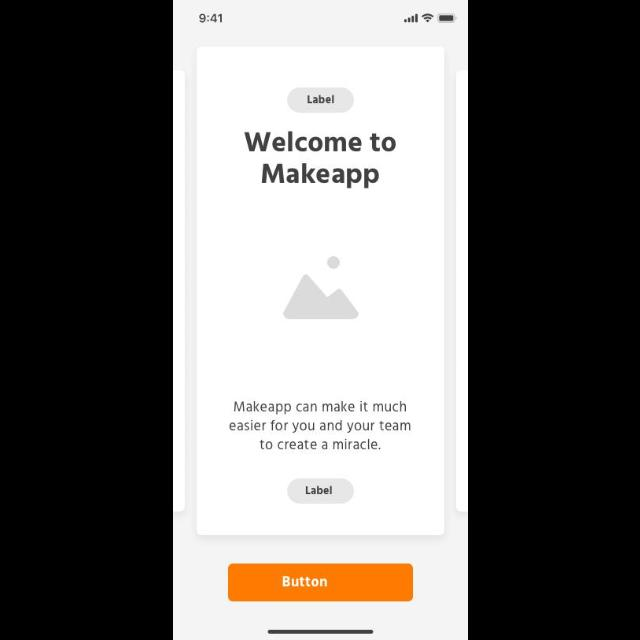image: (282, 256, 358, 320)
panel: (196, 45, 447, 537)
text: (228, 402, 410, 451), (242, 132, 396, 188)
textbutton: (227, 564, 413, 602), (286, 87, 354, 113), (286, 478, 354, 504)
uppertaskbar: (199, 12, 457, 24)
